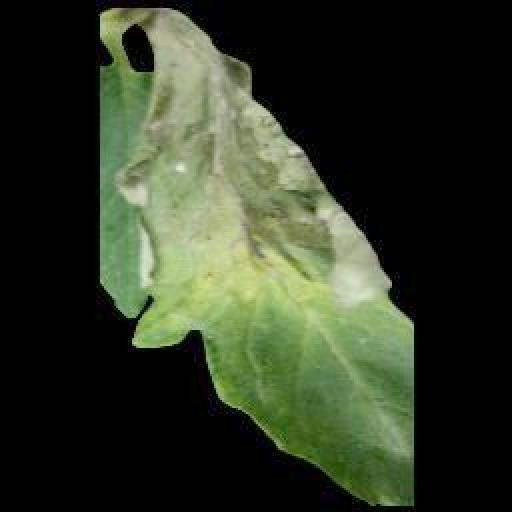disease_tomato: (98, 8, 416, 506)
